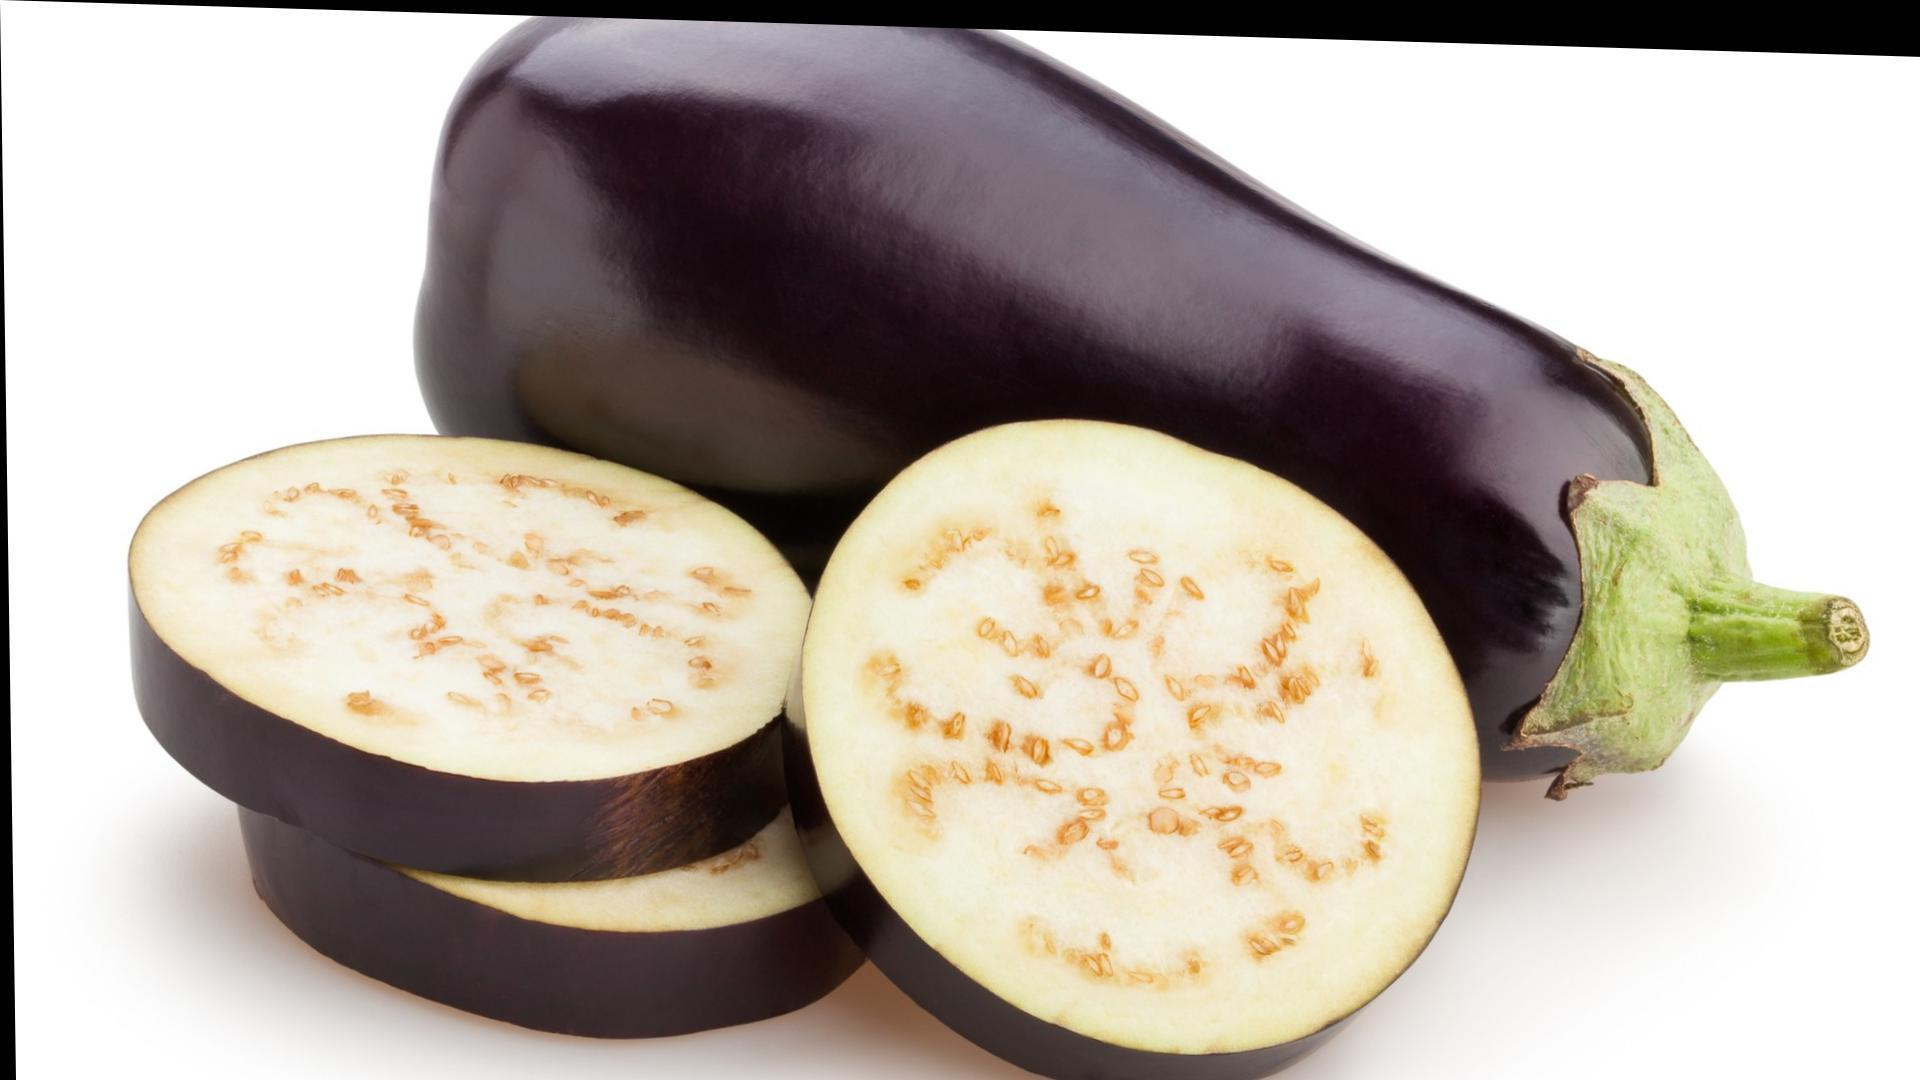eggplant: (276, 123, 1519, 1058)
